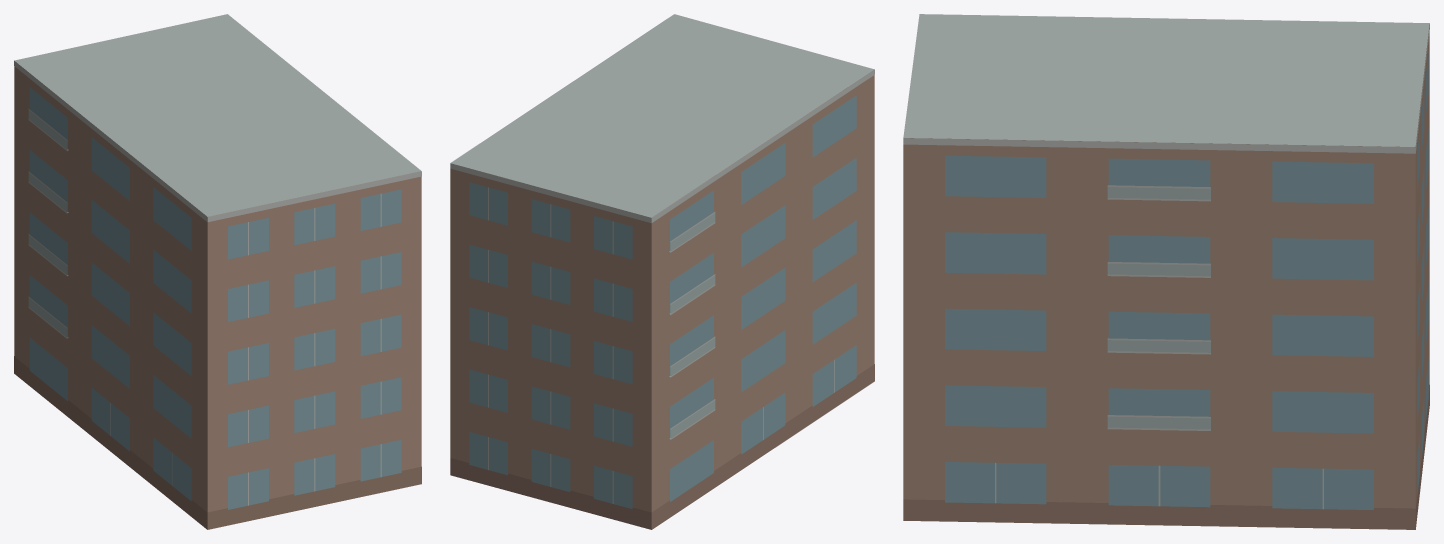
The model's file is survey-upis-32767685.glb.
The picture shows the model from 3 angles, left to right: view 1: azimuth 30°, elevation 25°; view 2: azimuth 150°, elevation 25°; view 3: azimuth 270°, elevation 25°; orthographic projection. The views are drawn at different scales.
Parts seen in each view (by area): view 1: survey-upis-32767685.tmp; view 2: survey-upis-32767685.tmp; view 3: survey-upis-32767685.tmp.
Part boxes in pixels (x1,y1,x2,y2): survey-upis-32767685.tmp: (14,14,421,529); survey-upis-32767685.tmp: (450,14,874,529); survey-upis-32767685.tmp: (903,14,1429,529).
Size of the model in its own units: 10.52 by 14.1 by 17.58.
